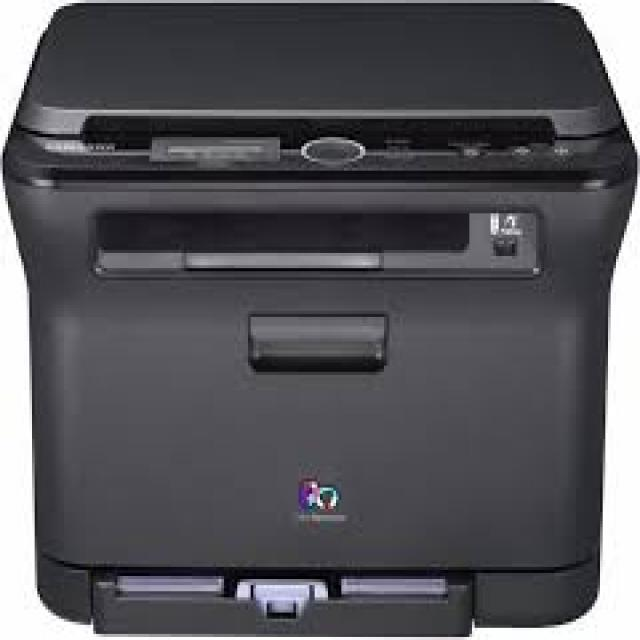printer: (0, 2, 637, 638)
